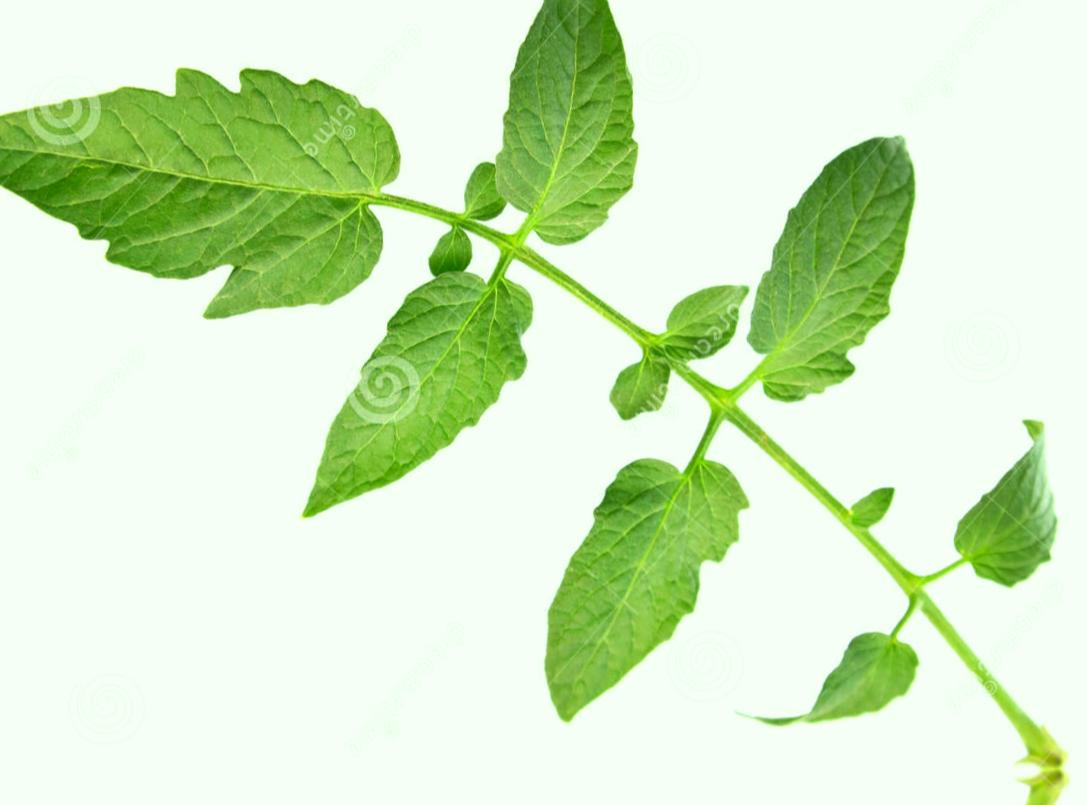Tomato leaf: (0, 11, 400, 359), (477, 414, 822, 761), (716, 105, 1002, 419), (252, 243, 542, 535), (403, 0, 712, 273), (732, 595, 930, 763), (927, 396, 1087, 596)
